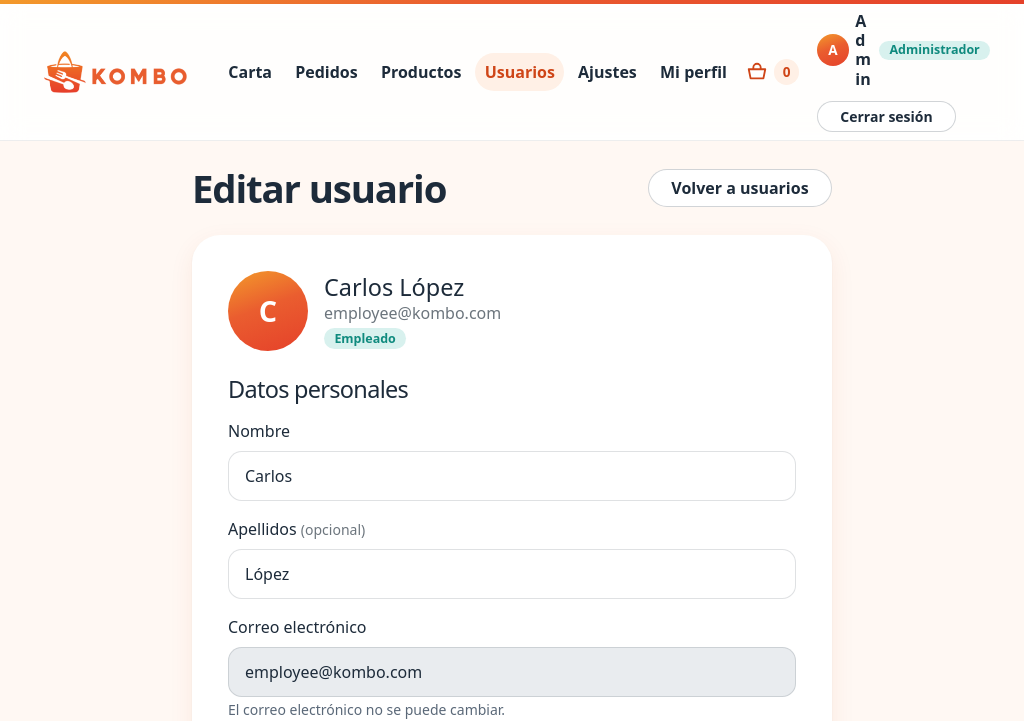
Scenario: UserEditPage › changes the personal data of an employee, who has no addresses
Expected: the text "employee@kombo.com" is shown, x1=324 y1=301 x2=501 y2=325
Expected: the text "Empleado" is shown, x1=324 y1=328 x2=406 y2=349
Replace the text in the field labelled "Nombre" with "Carlos Javier": (512, 476) x1=228 y1=451 x2=796 y2=501
(page scrolled)
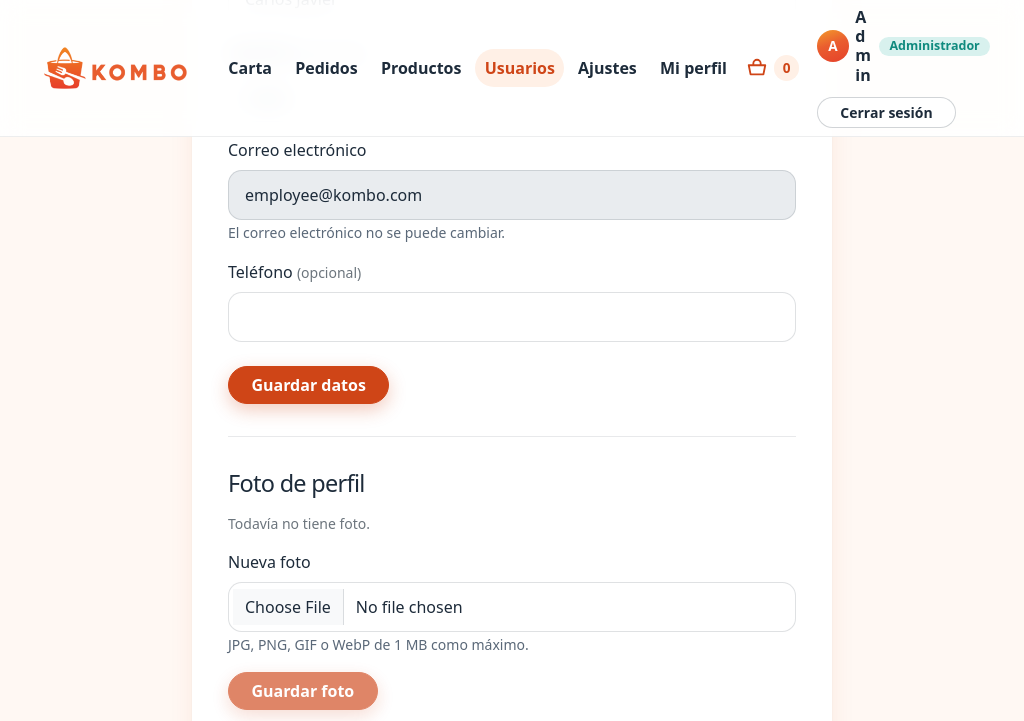
Click the button "Guardar datos": (309, 385) x1=228 y1=366 x2=389 y2=404
(page scrolled)
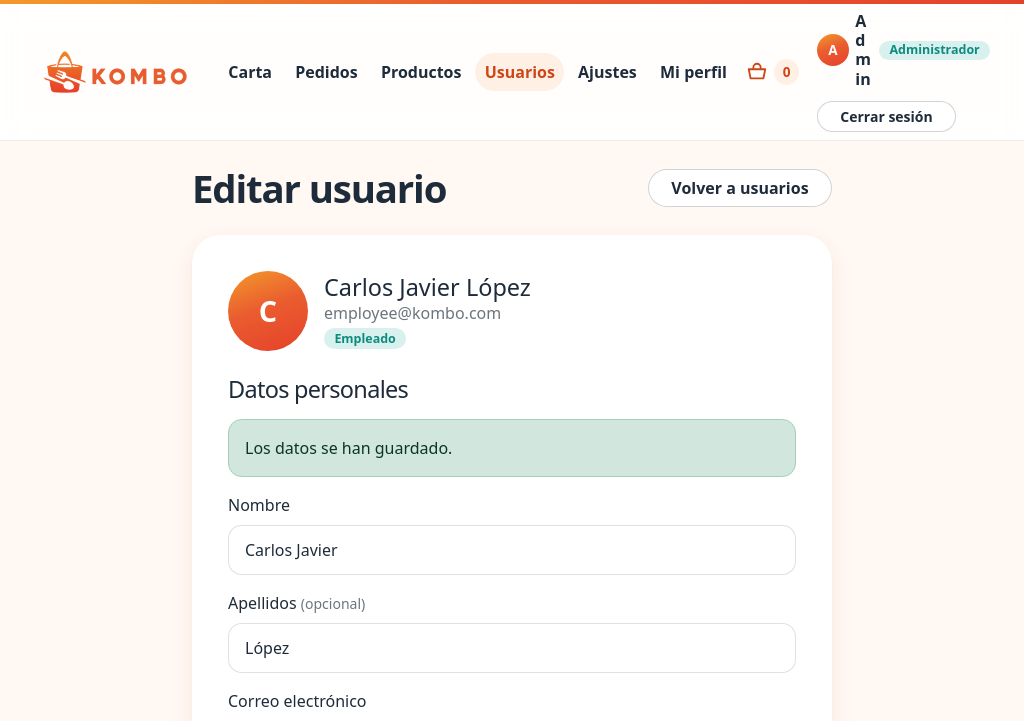
Now the text "Los datos se han guardado." is shown, box x1=228 y1=419 x2=796 y2=477
Now the text "Carlos Javier López" is shown, box x1=324 y1=273 x2=531 y2=301
